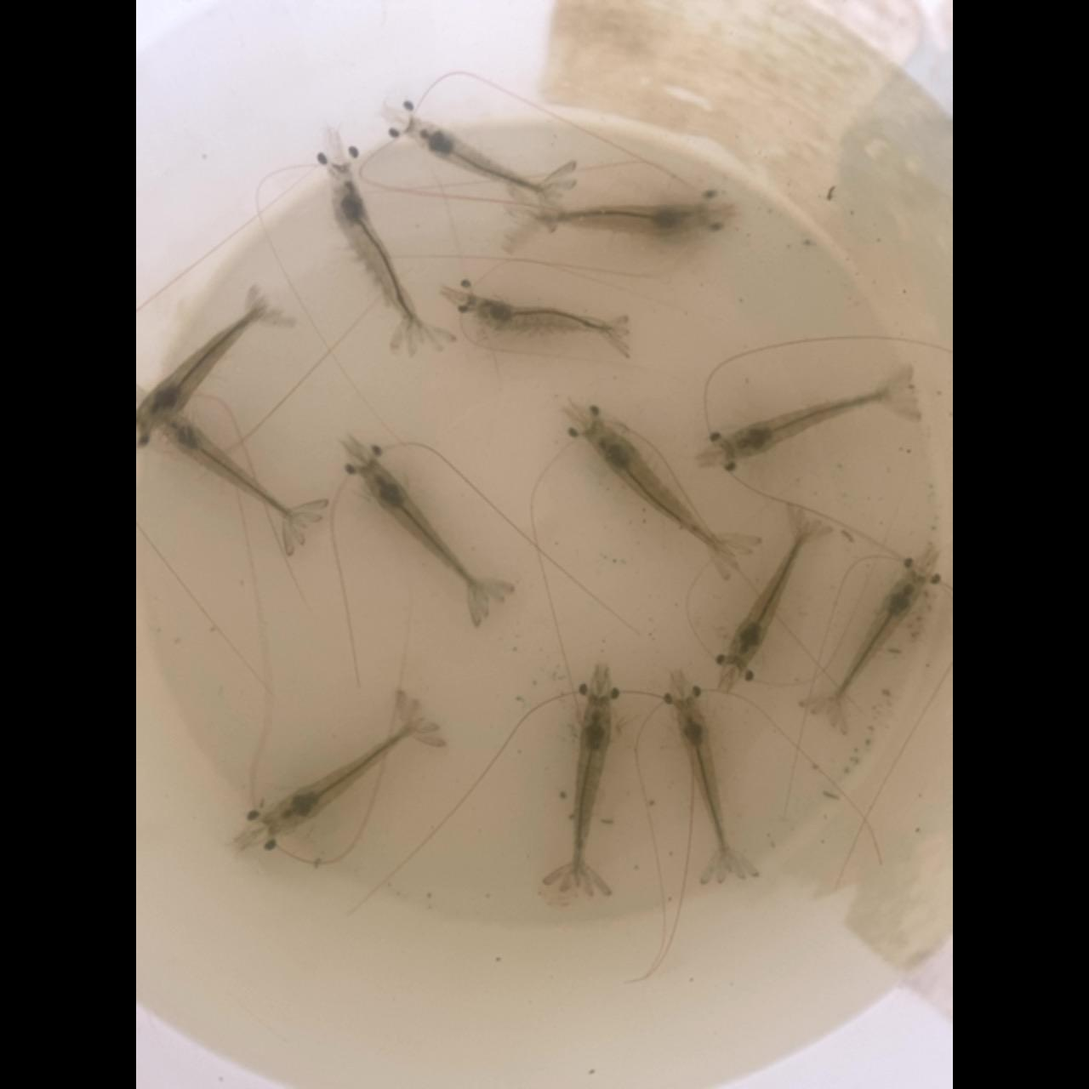top_shrimp: (585, 423, 737, 557), (263, 716, 426, 835), (150, 407, 308, 529), (359, 461, 492, 603), (136, 302, 273, 430), (330, 165, 424, 344), (825, 569, 925, 716), (403, 119, 566, 200), (723, 391, 911, 457), (728, 519, 810, 667), (676, 699, 730, 876), (572, 697, 611, 891), (468, 294, 625, 338), (515, 203, 709, 238)
